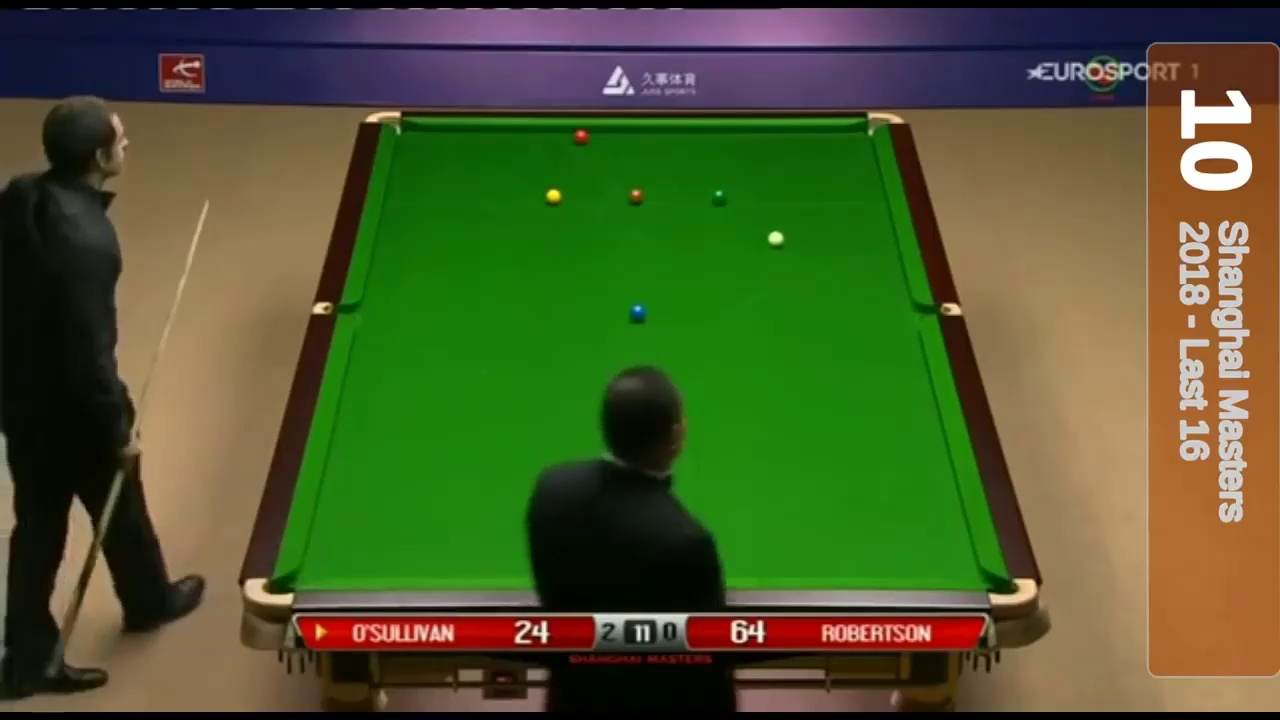ball: (763, 228, 788, 247), (630, 300, 649, 324), (568, 125, 591, 143), (543, 185, 562, 205), (709, 189, 728, 206), (624, 188, 643, 201)
